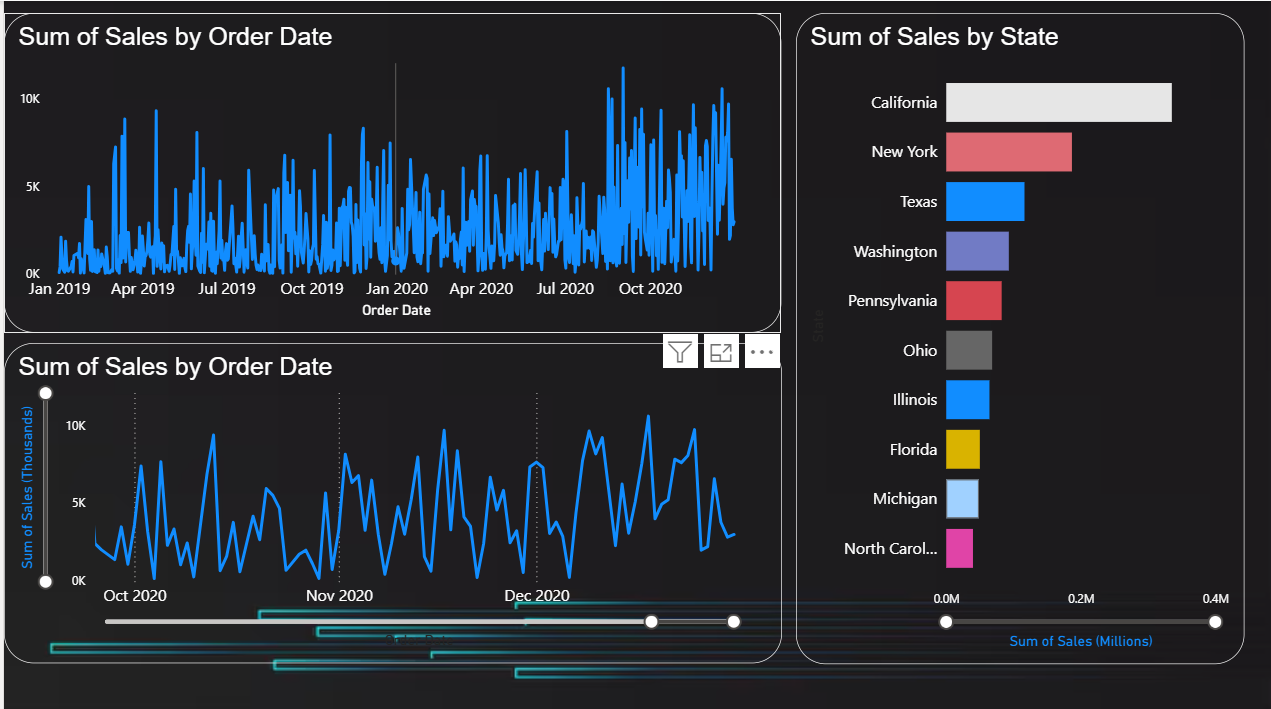

What the dashboard file says about the page in this screenshot:
{"tool":"powerbi","page":{"name":"Chart","canvas":[1280,720],"ordinal":1},"visuals":[{"type":"lineChart","fields":{"Y":["Sum(SuperStore_Sales_Dataset.Sales)"],"Category":["SuperStore_Sales_Dataset.Order Date"]},"box":[0,12.1,784.4,322.5],"z":0},{"type":"lineChart","fields":{"Y":["Sum(SuperStore_Sales_Dataset.Sales)"],"Category":["SuperStore_Sales_Dataset.Order Date"]},"box":[0,345,785,323.3],"z":1000},{"type":"clusteredBarChart","fields":{"Y":["Sum(SuperStore_Sales_Dataset.Sales)"],"Category":["SuperStore_Sales_Dataset.State"]},"box":[799.5,12.1,452.7,657.2],"z":2000}]}

Visuals, with their boxes in screenshot pixels (x1, y1, x2, y2), scaled from the page's 1280x720 canvas onto the 1271x709 screenshot:
lineChart - Sum(SuperStore_Sales_Dataset.Sales) x SuperStore_Sales_Dataset.Order Date: locate(0, 12, 779, 329)
lineChart - Sum(SuperStore_Sales_Dataset.Sales) x SuperStore_Sales_Dataset.Order Date: locate(0, 340, 779, 658)
clusteredBarChart - Sum(SuperStore_Sales_Dataset.Sales) x SuperStore_Sales_Dataset.State: locate(794, 12, 1243, 659)
